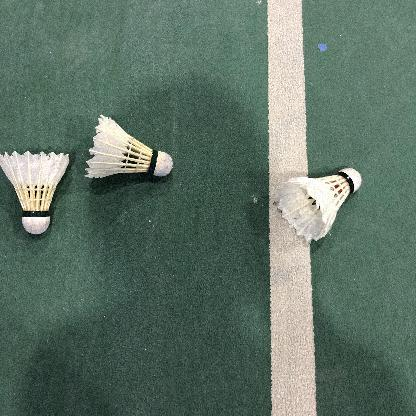ball_single: (277, 168, 362, 241), (0, 151, 70, 234), (84, 114, 173, 179)
